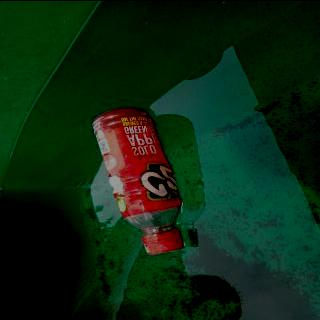bottle: (91, 106, 186, 254)
